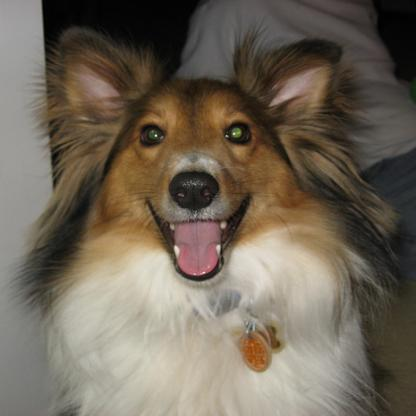Shetland_sheepdog: (21, 26, 399, 413)
